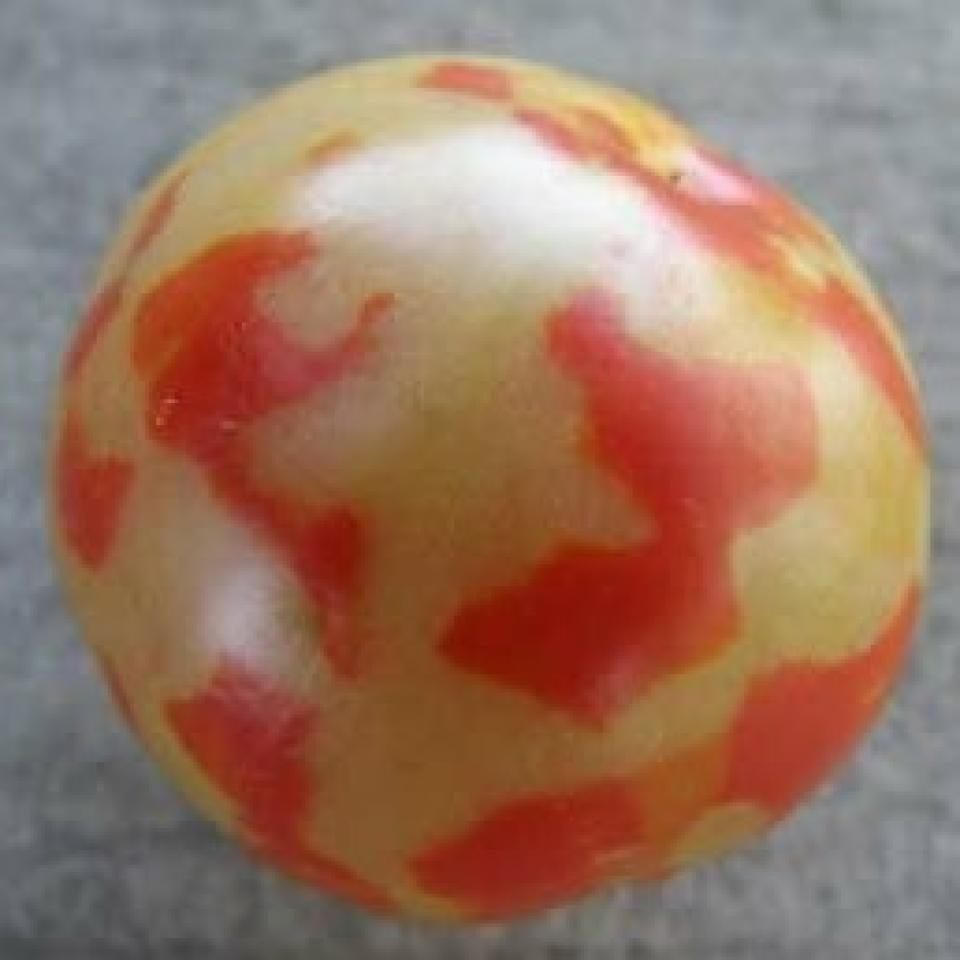Spotted wilt Virus: (48, 51, 930, 927)
